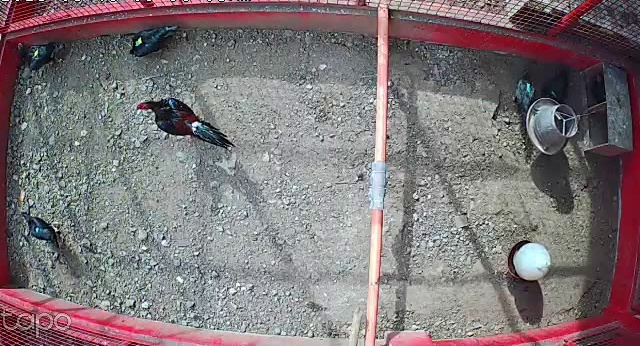Chicken: (127, 20, 181, 63), (16, 40, 72, 72), (23, 210, 64, 252), (510, 69, 539, 124), (541, 67, 572, 104)
Rooster: (135, 93, 235, 153)
Saddle_Color_Blue: (34, 227, 39, 232)
Saddle_Color_Bluegreen: (525, 84, 532, 93)
Saddle_Color_Yellow: (33, 50, 39, 55)
Saddle_Color_YellowGreen: (135, 37, 143, 45)
